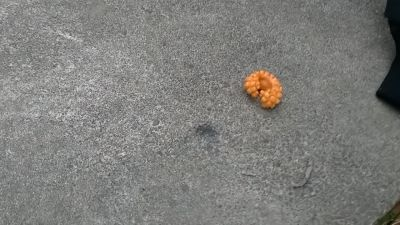eggs: (244, 70, 283, 110)
